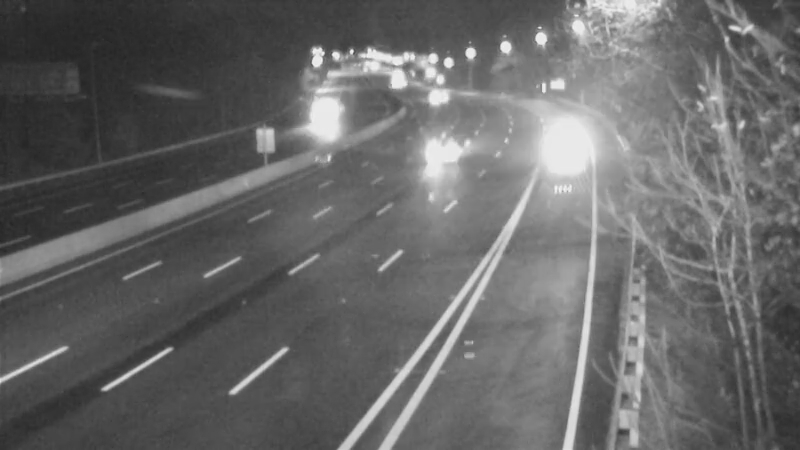vehicle: (408, 115, 488, 195), (524, 113, 604, 193), (414, 71, 464, 121), (292, 96, 342, 146)
